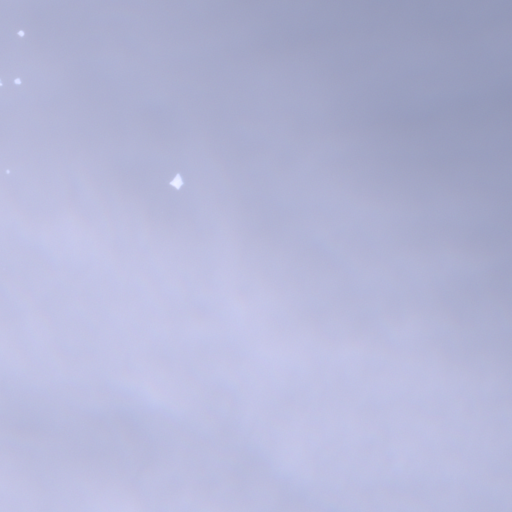Iceberg: (170, 173, 183, 189), (17, 31, 23, 36), (15, 78, 20, 83), (7, 171, 8, 172)
